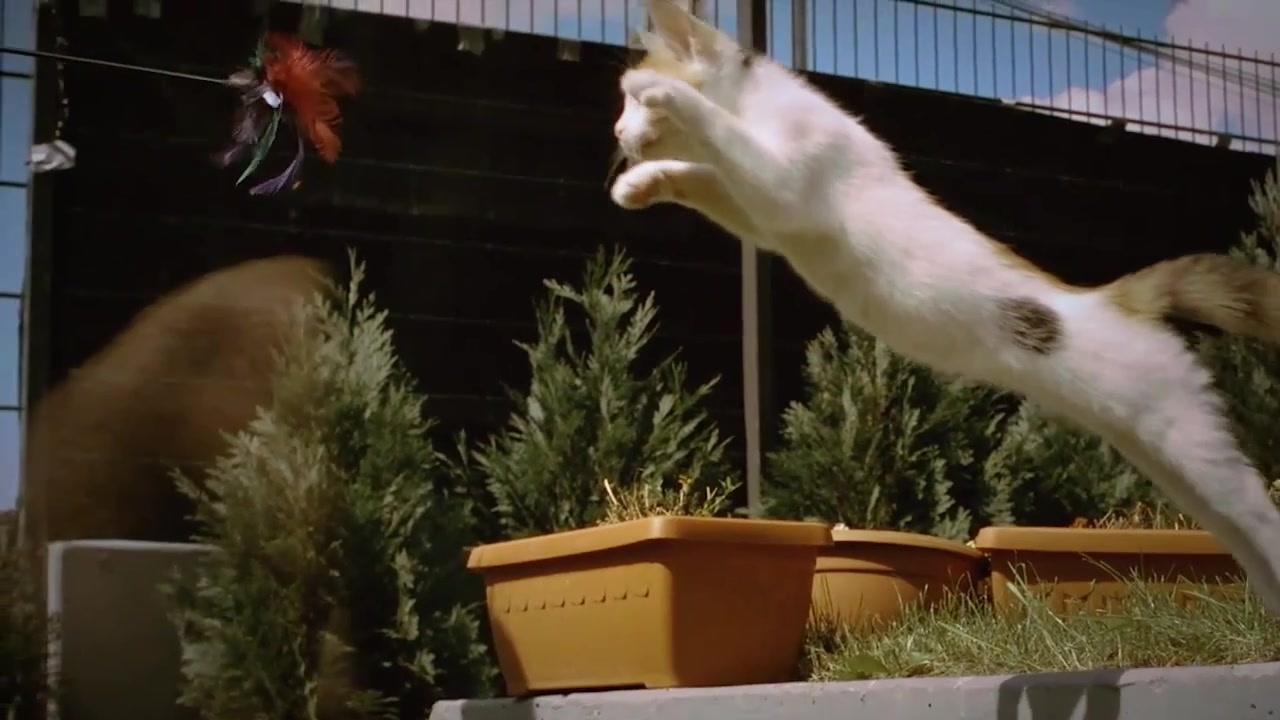cat: (607, 2, 1280, 626)
